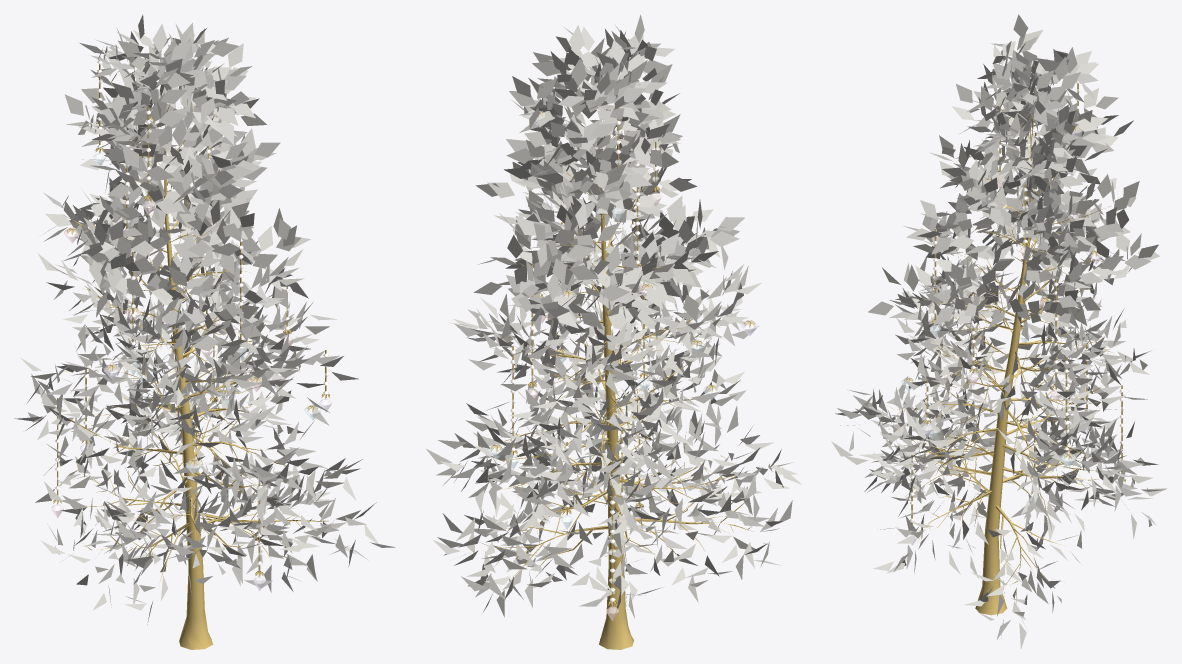
File: houju_lod.glb
3 renders of one model, left to right at view 1: azimuth 30°, elevation 25°; view 2: azimuth 150°, elevation 25°; view 3: azimuth 270°, elevation 25°, orthographic. The views are drawn at different scales.
Parts seen in each view (by area): view 1: Leaves, Branches1, Branches2, gold_wire, pearl_batch, mizu_batch, sakura_batch, hari_batch; view 2: Leaves, Branches1, Branches2, gold_wire, mizu_batch, pearl_batch, gold_fitting, hari_batch; view 3: Leaves, Branches1, Branches2, gold_wire, pearl_batch, mizu_batch.
Boxes of the visible parts, x1=… form: Leaves: x1=14, y1=14, x2=395, y2=624; Branches1: x1=64, y1=103, x2=328, y2=649; Branches2: x1=61, y1=99, x2=335, y2=581; gold_wire: x1=57, y1=56, x2=326, y2=576; pearl_batch: x1=55, y1=60, x2=328, y2=565; mizu_batch: x1=93, y1=153, x2=320, y2=496; sakura_batch: x1=51, y1=201, x2=293, y2=517; hari_batch: x1=54, y1=79, x2=328, y2=557; Leaves: x1=426, y1=14, x2=801, y2=618; Branches1: x1=498, y1=109, x2=744, y2=649; Branches2: x1=484, y1=88, x2=751, y2=583; gold_wire: x1=512, y1=107, x2=656, y2=605; mizu_batch: x1=488, y1=207, x2=720, y2=529; pearl_batch: x1=510, y1=120, x2=658, y2=601; gold_fitting: x1=491, y1=111, x2=755, y2=606; hari_batch: x1=509, y1=120, x2=658, y2=583; Leaves: x1=831, y1=14, x2=1166, y2=648; Branches1: x1=897, y1=115, x2=1112, y2=615; Branches2: x1=881, y1=107, x2=1110, y2=603; gold_wire: x1=911, y1=83, x2=1122, y2=524; pearl_batch: x1=909, y1=72, x2=1124, y2=521; mizu_batch: x1=900, y1=158, x2=1083, y2=502.
Size of the model in its own units: 4.53 by 8.5 by 4.5.
